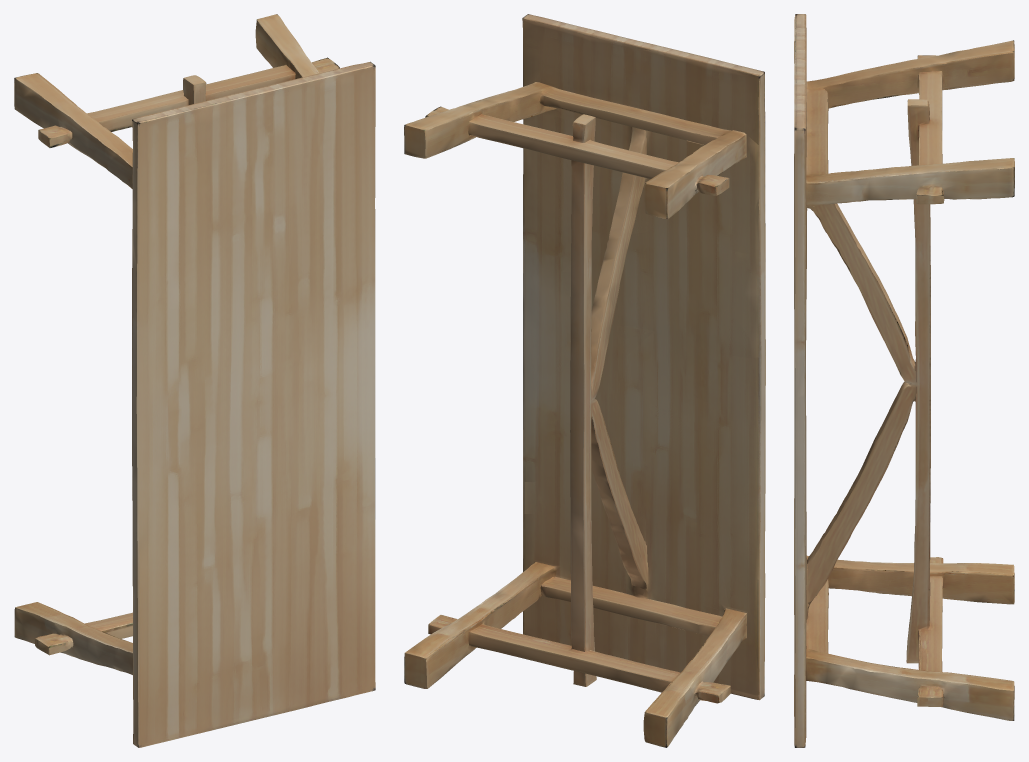
Rendered from table_ikea_scaled_centered_apriltag.obj.
3 views of the same model, side by side, from view 1: azimuth 30°, elevation 25°; view 2: azimuth 150°, elevation 25°; view 3: azimuth 270°, elevation 25° (orthographic).
Size of the model in its own units: 1.16 by 2.35 by 0.7599.
Materials: 1 (1 with a texture image).
